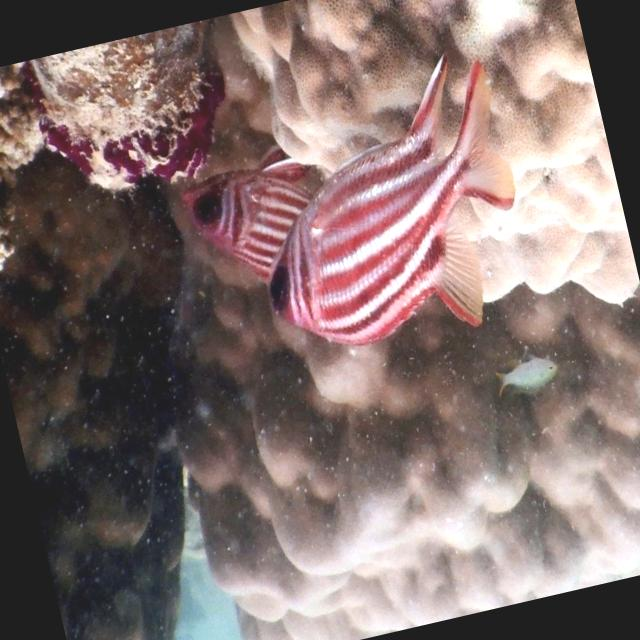Asker Baligi: (216, 45, 551, 383)
